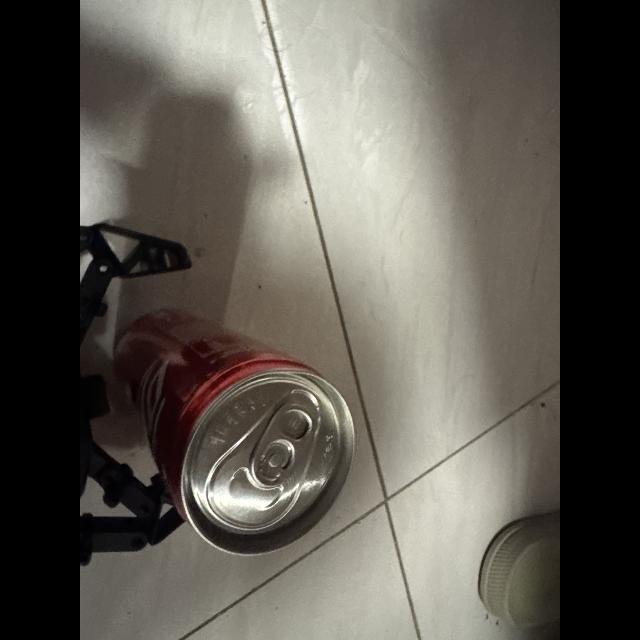Cola: (105, 288, 365, 566)
